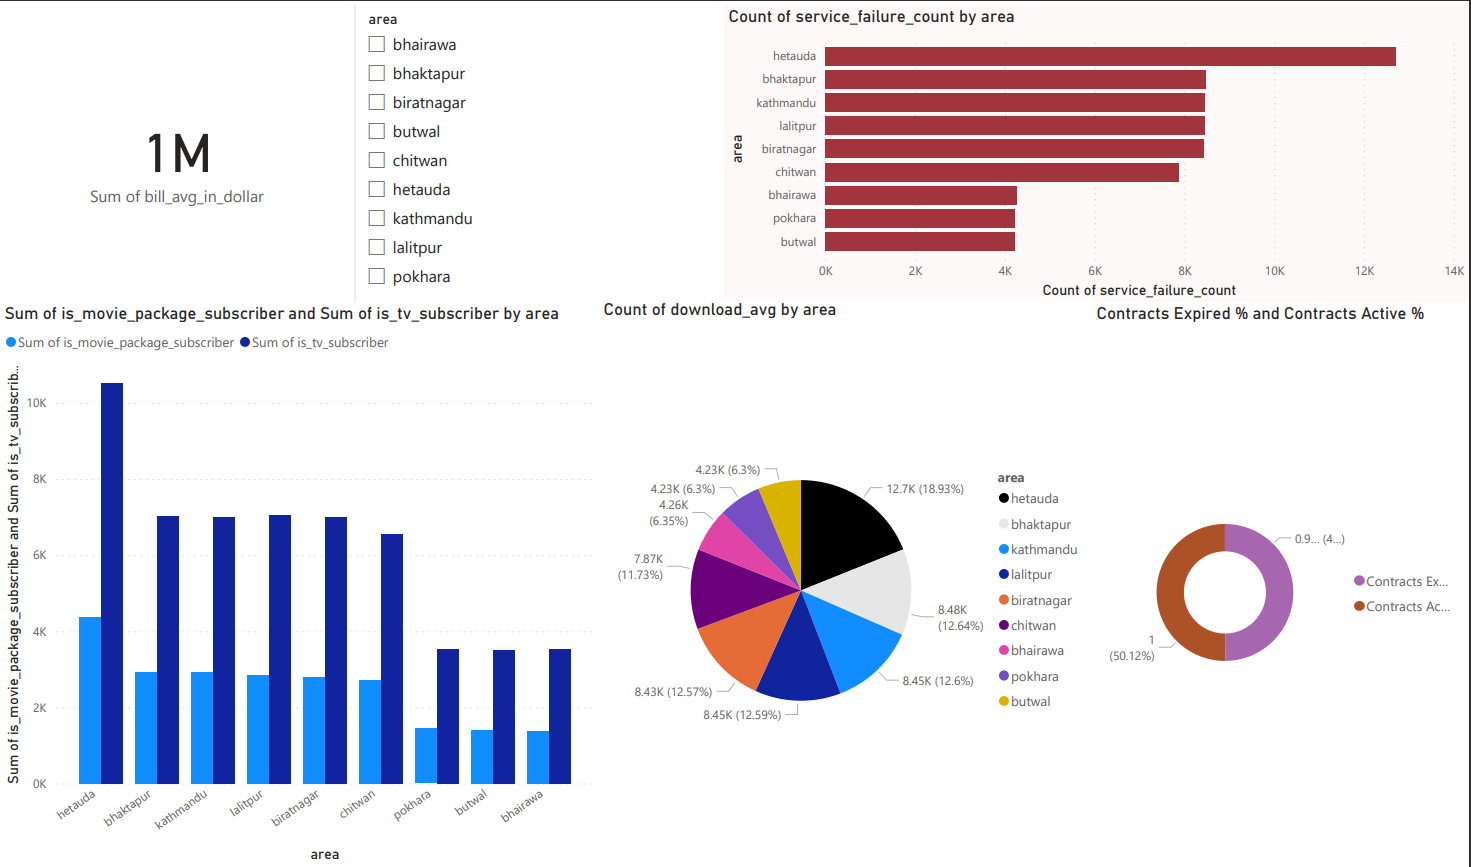

What the dashboard file says about the page in this screenshot:
{"tool":"powerbi","page":{"name":"Assignment","canvas":[1470,857],"ordinal":0},"visuals":[{"type":"card","fields":{"Values":["Sum(assignment final_table.bill_avg_in_dollar)"]},"box":[0,0,354,302],"z":0},{"type":"clusteredColumnChart","fields":{"Category":["assignment final_table.area"],"Y":["Sum(assignment final_table.is_movie_package_subscriber)","Sum(assignment final_table.is_tv_subscriber)"]},"box":[0,296.6,598.9,564.3],"z":1000},{"type":"slicer","fields":{"Values":["assignment final_table.area"]},"box":[356,0,367.6,296],"z":2000},{"type":"pieChart","fields":{"Y":["CountNonNull(assignment final_table.download_avg)"],"Category":["assignment final_table.area"]},"box":[598.9,292.7,493,564.3],"z":3000},{"type":"clusteredBarChart","fields":{"Category":["assignment final_table.area"],"Y":["CountNonNull(assignment final_table.service_failure_count)"]},"box":[724.1,0,745.3,296.6],"z":4000},{"type":"donutChart","fields":{"Y":["BaseMeasure.Contracts Expired %","BaseMeasure.Contracts Active %"]},"box":[1092,296.6,377.5,560.4],"z":5000}]}

Visuals, with their boxes in screenshot pixels (x1, y1, x2, y2), scaled from the page's 1470x857 canvas onto the 1471x867 screenshot:
card - Sum(assignment final_table.bill_avg_in_dollar): box(0, 0, 354, 306)
clusteredColumnChart - assignment final_table.area x Sum(assignment final_table.is_movie_package_subscriber): box(0, 300, 599, 866)
slicer - assignment final_table.area: box(356, 0, 724, 299)
pieChart - CountNonNull(assignment final_table.download_avg) x assignment final_table.area: box(599, 296, 1093, 866)
clusteredBarChart - assignment final_table.area x CountNonNull(assignment final_table.service_failure_count): box(725, 0, 1470, 300)
donutChart - BaseMeasure.Contracts Expired % x BaseMeasure.Contracts Active %: box(1093, 300, 1470, 866)
